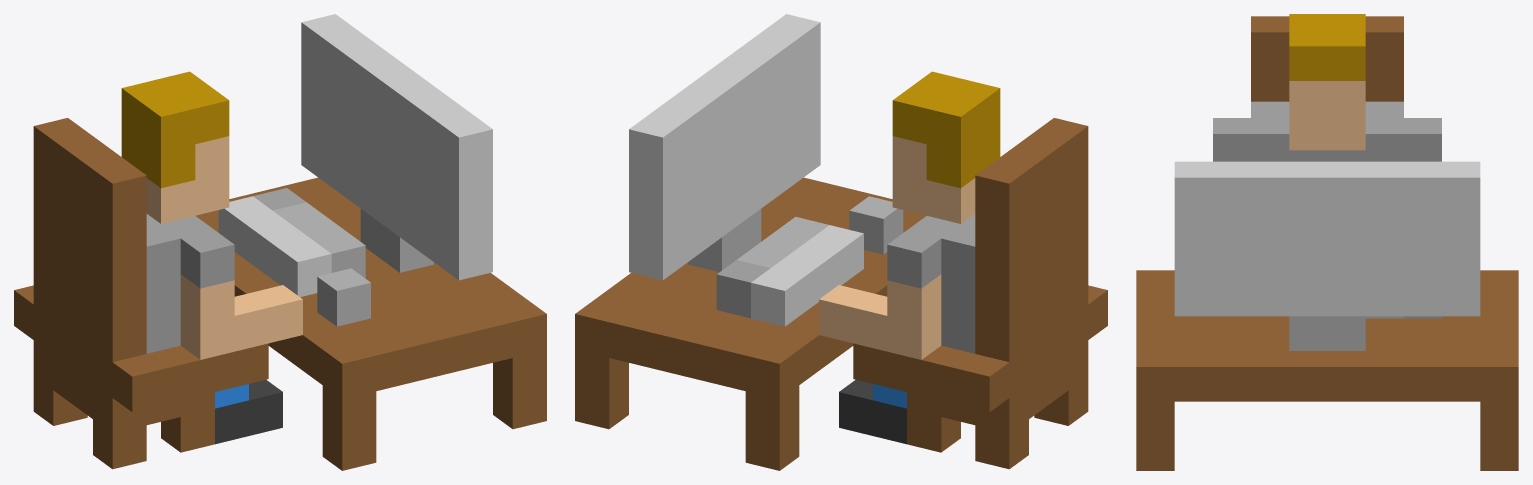
Rendered from iso_dima.obj.
3 views of the same model, side by side, from view 1: azimuth 30°, elevation 25°; view 2: azimuth 150°, elevation 25°; view 3: azimuth 270°, elevation 25° (orthographic). The views are drawn at different scales.
Bounding box in the file's own units: 11 × 9 × 10.
1 material, 1 textured.
